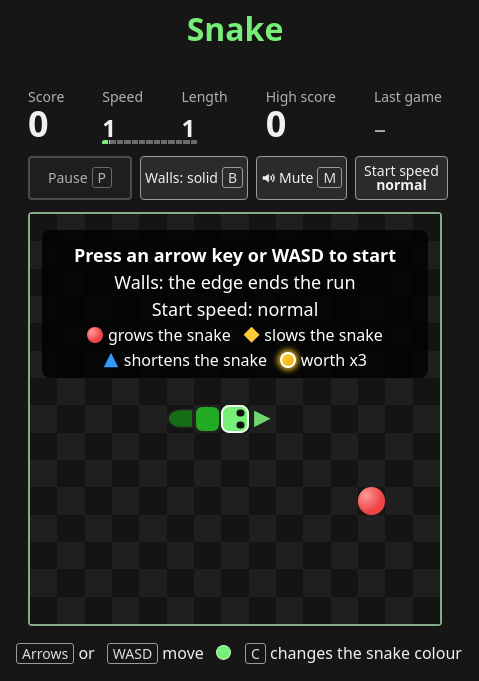
it: blocked storage does not stop the switch
This screenshot has width=479, height=681.
Click the button "Walls: solid": (194, 178) [140,156,248,200]
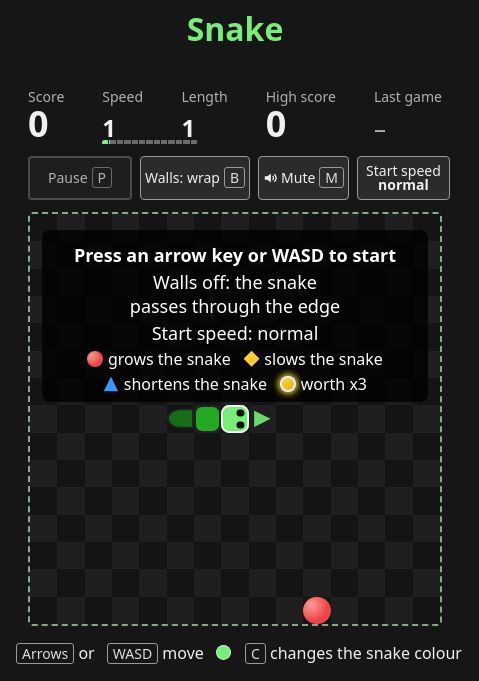
Expected: the button "Walls: wrap" is shown, [140,156,250,200]
